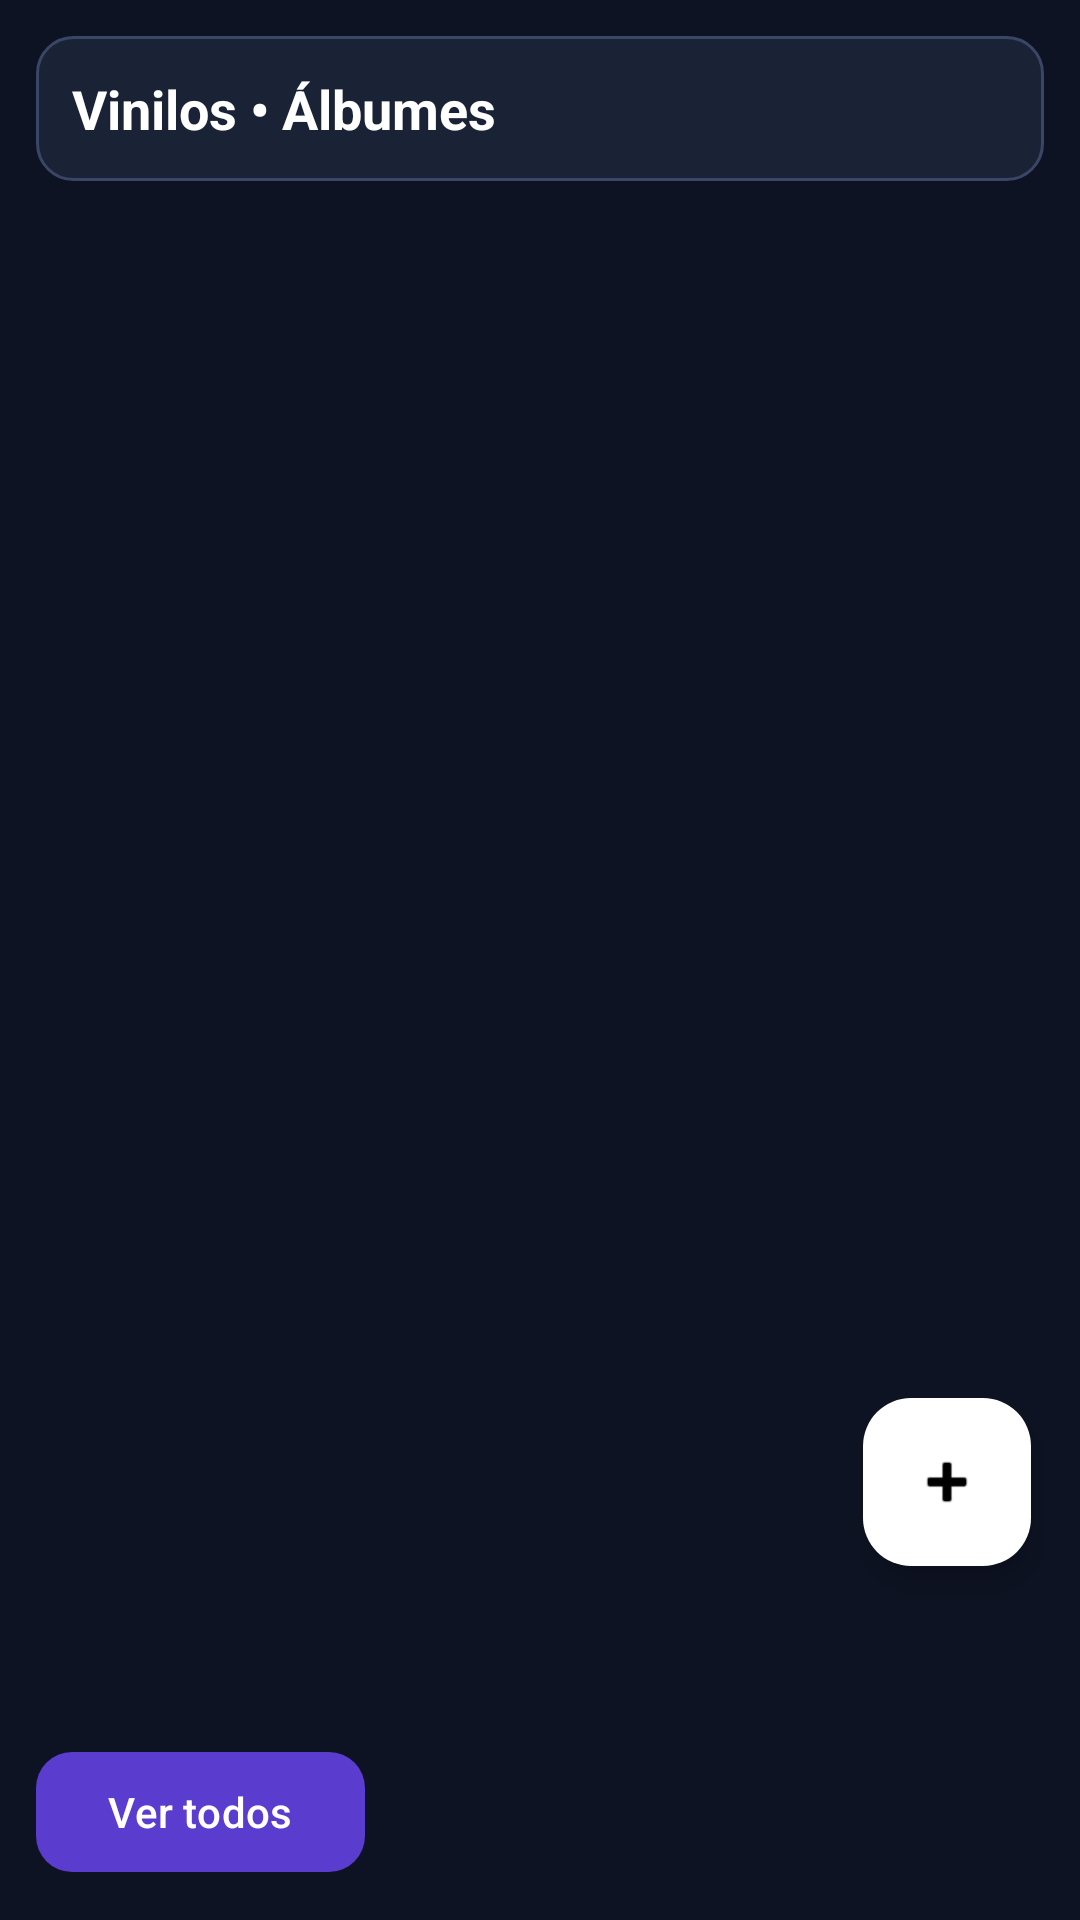

Icon click points for this 1080 × 1920 phone screenshot, format [x,y]:
Agregar pista: [947,1482]
